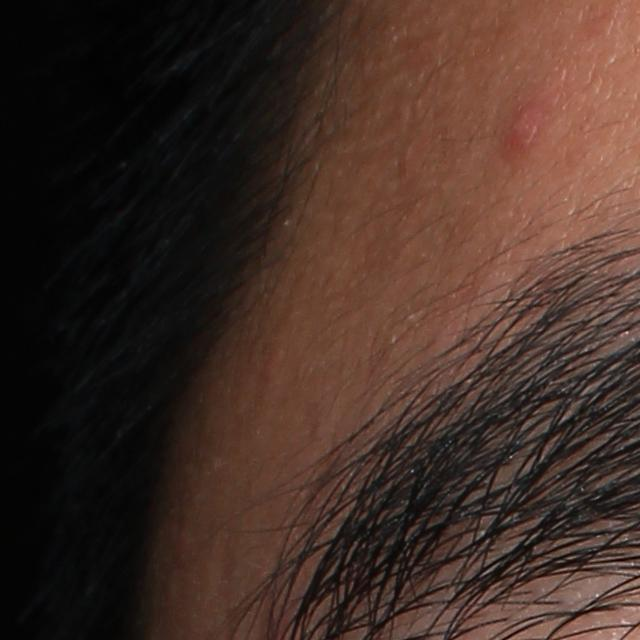papule: (500, 99, 550, 159)
